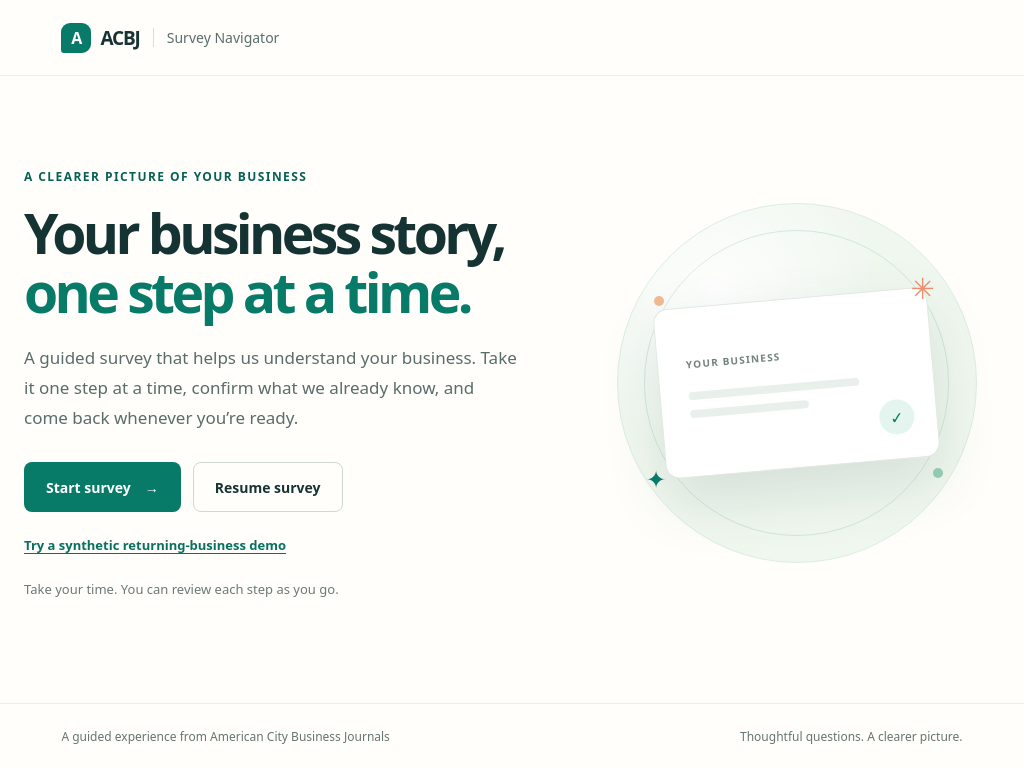
ACBJ Survey Navigator question flow › identifies the section with missing required answers before submission
The image size is (1024, 768).
Click the button "Resume survey" at [268, 487], box top-left (193, 462), bottom-right (343, 512)
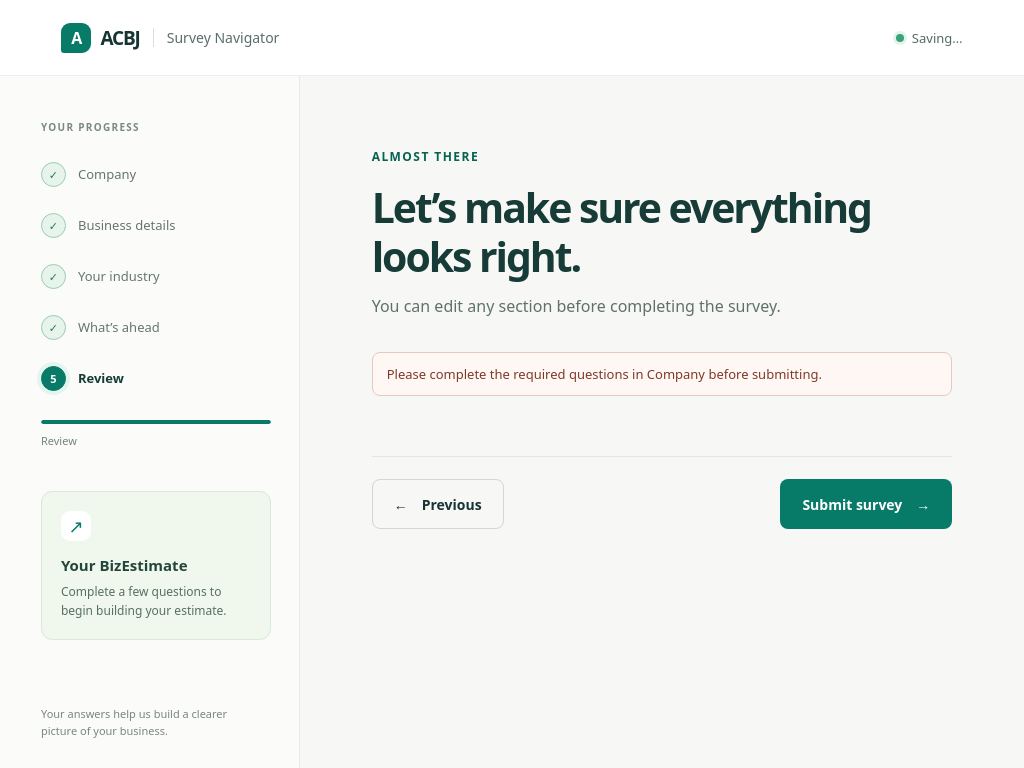
Expected: the message "Please complete the required questions in Company before submitting." is shown, top-left (372, 352), bottom-right (952, 396)
Click the button "Submit survey →" at [866, 504], box top-left (780, 479), bottom-right (952, 529)
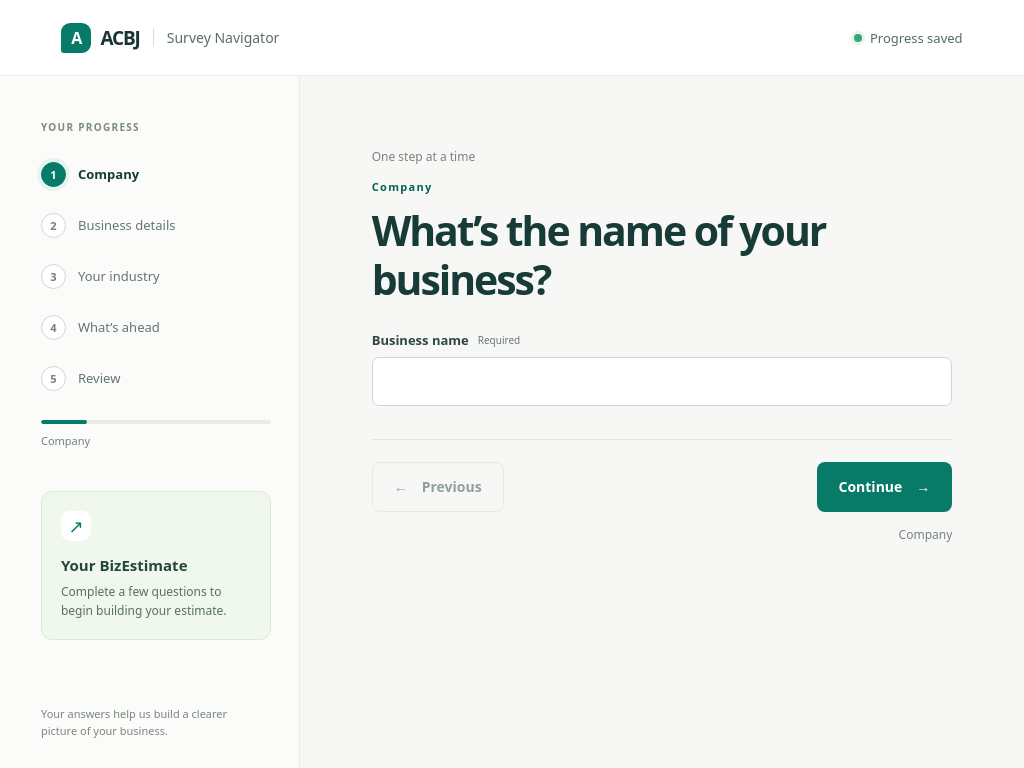
Expected: the heading "What’s the name of your business?" is shown, top-left (372, 202), bottom-right (825, 307)
